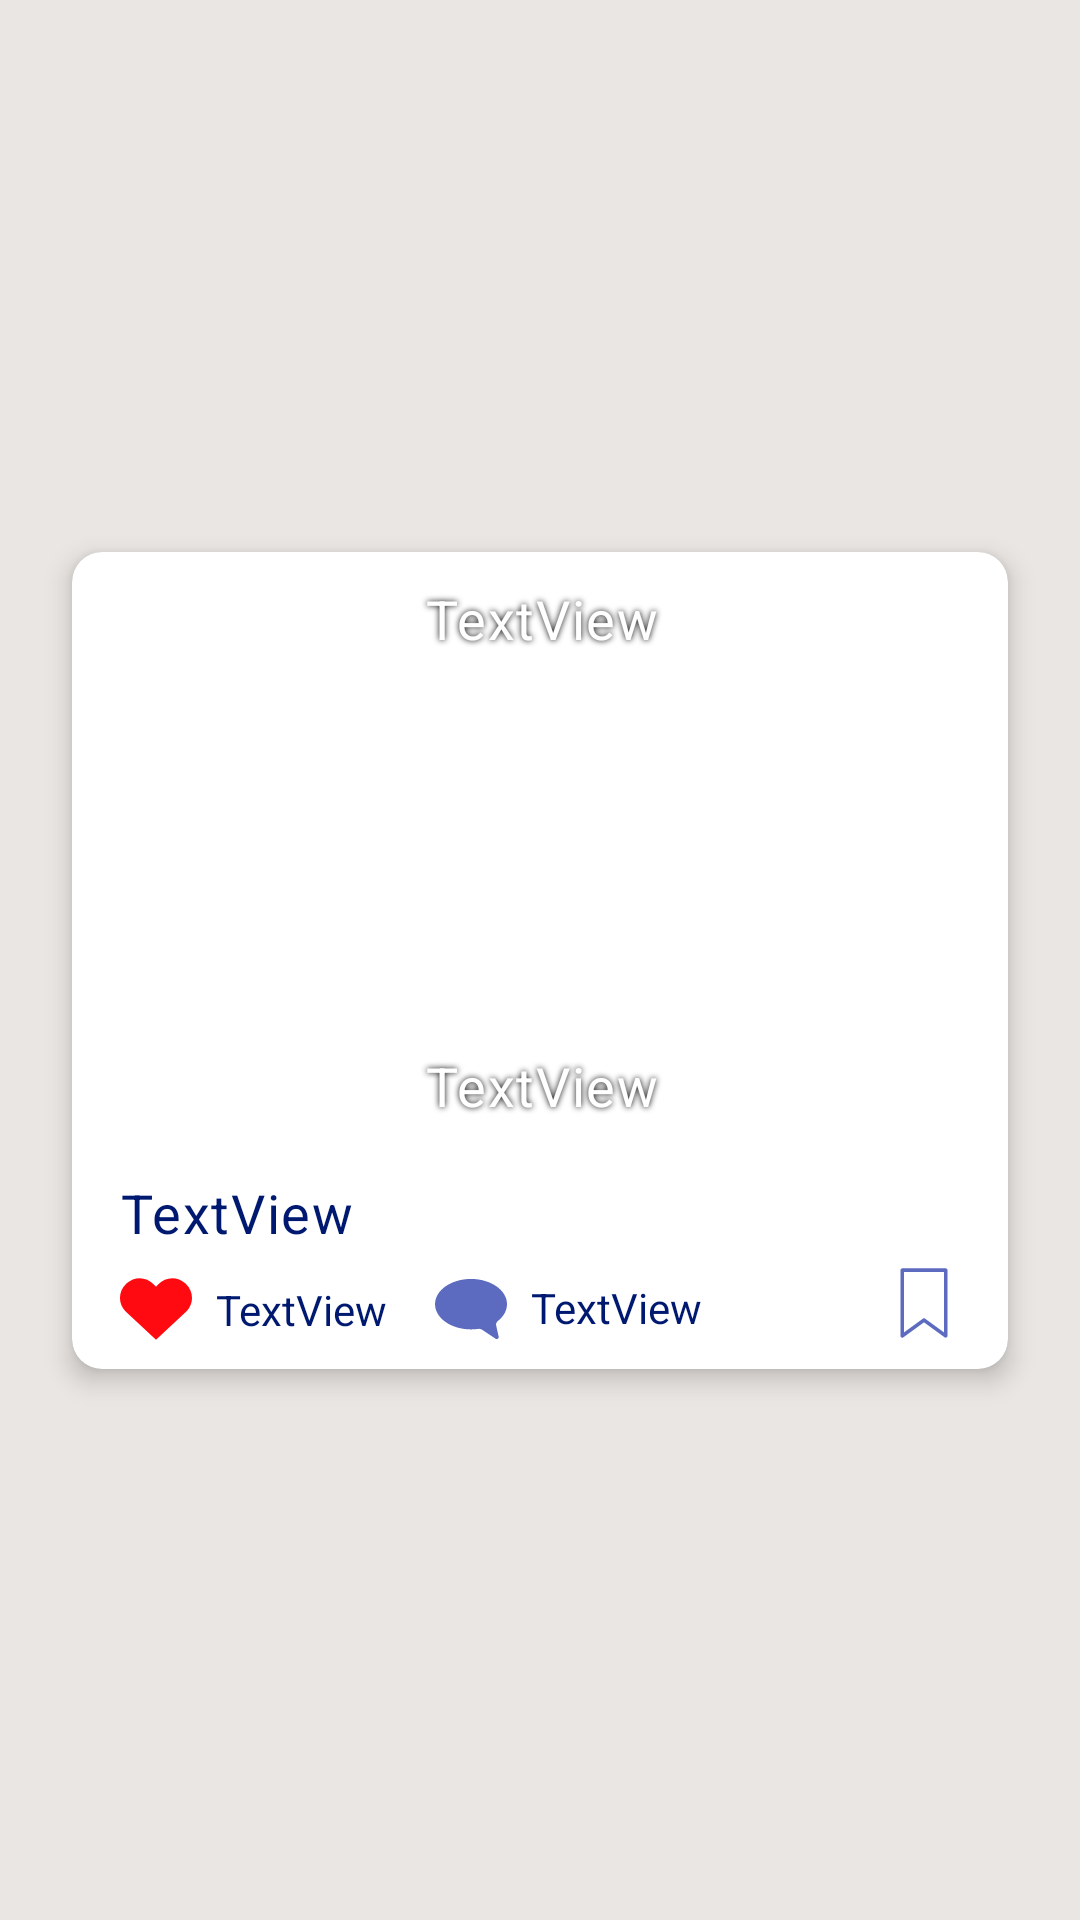

Icon click points for this 1080*1920 phone screenshot, format [x,y]:
comment: [471,1309]
redheart: [156,1309]
saveoutline: [924,1303]
